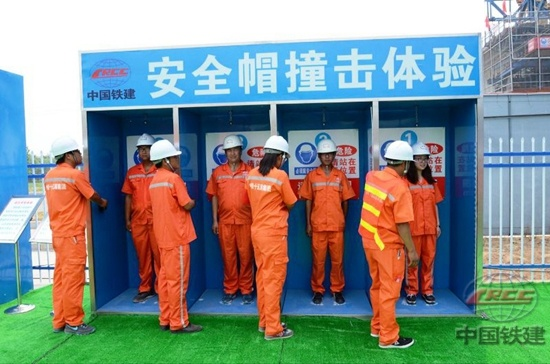white: (50, 134, 84, 168), (262, 135, 291, 170), (149, 138, 180, 170), (384, 140, 411, 176), (221, 133, 244, 165), (316, 137, 339, 168), (135, 132, 155, 161), (412, 143, 431, 171)
